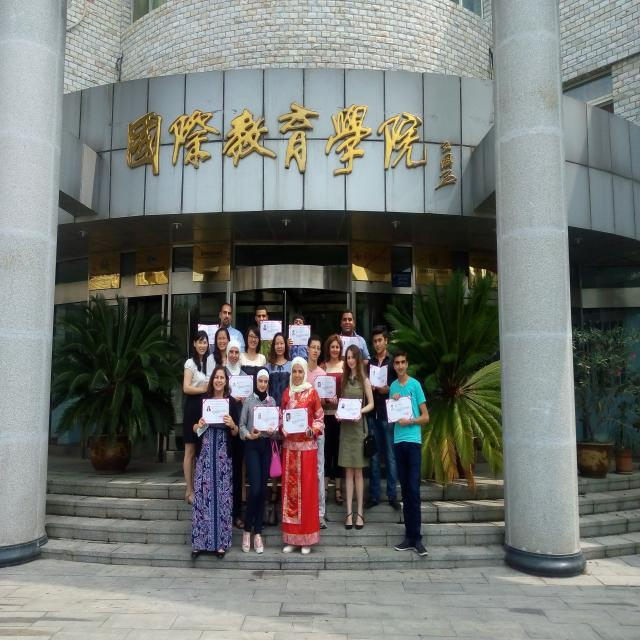body: (186, 364, 241, 561), (275, 354, 326, 558), (384, 348, 429, 559), (238, 365, 281, 555), (334, 344, 375, 532), (362, 324, 402, 512), (305, 334, 338, 530), (222, 340, 249, 530), (182, 330, 210, 506), (318, 333, 346, 506), (265, 332, 292, 504), (208, 303, 248, 359), (336, 308, 372, 367), (206, 327, 231, 388), (238, 325, 266, 375), (286, 313, 311, 362), (255, 304, 274, 364)
